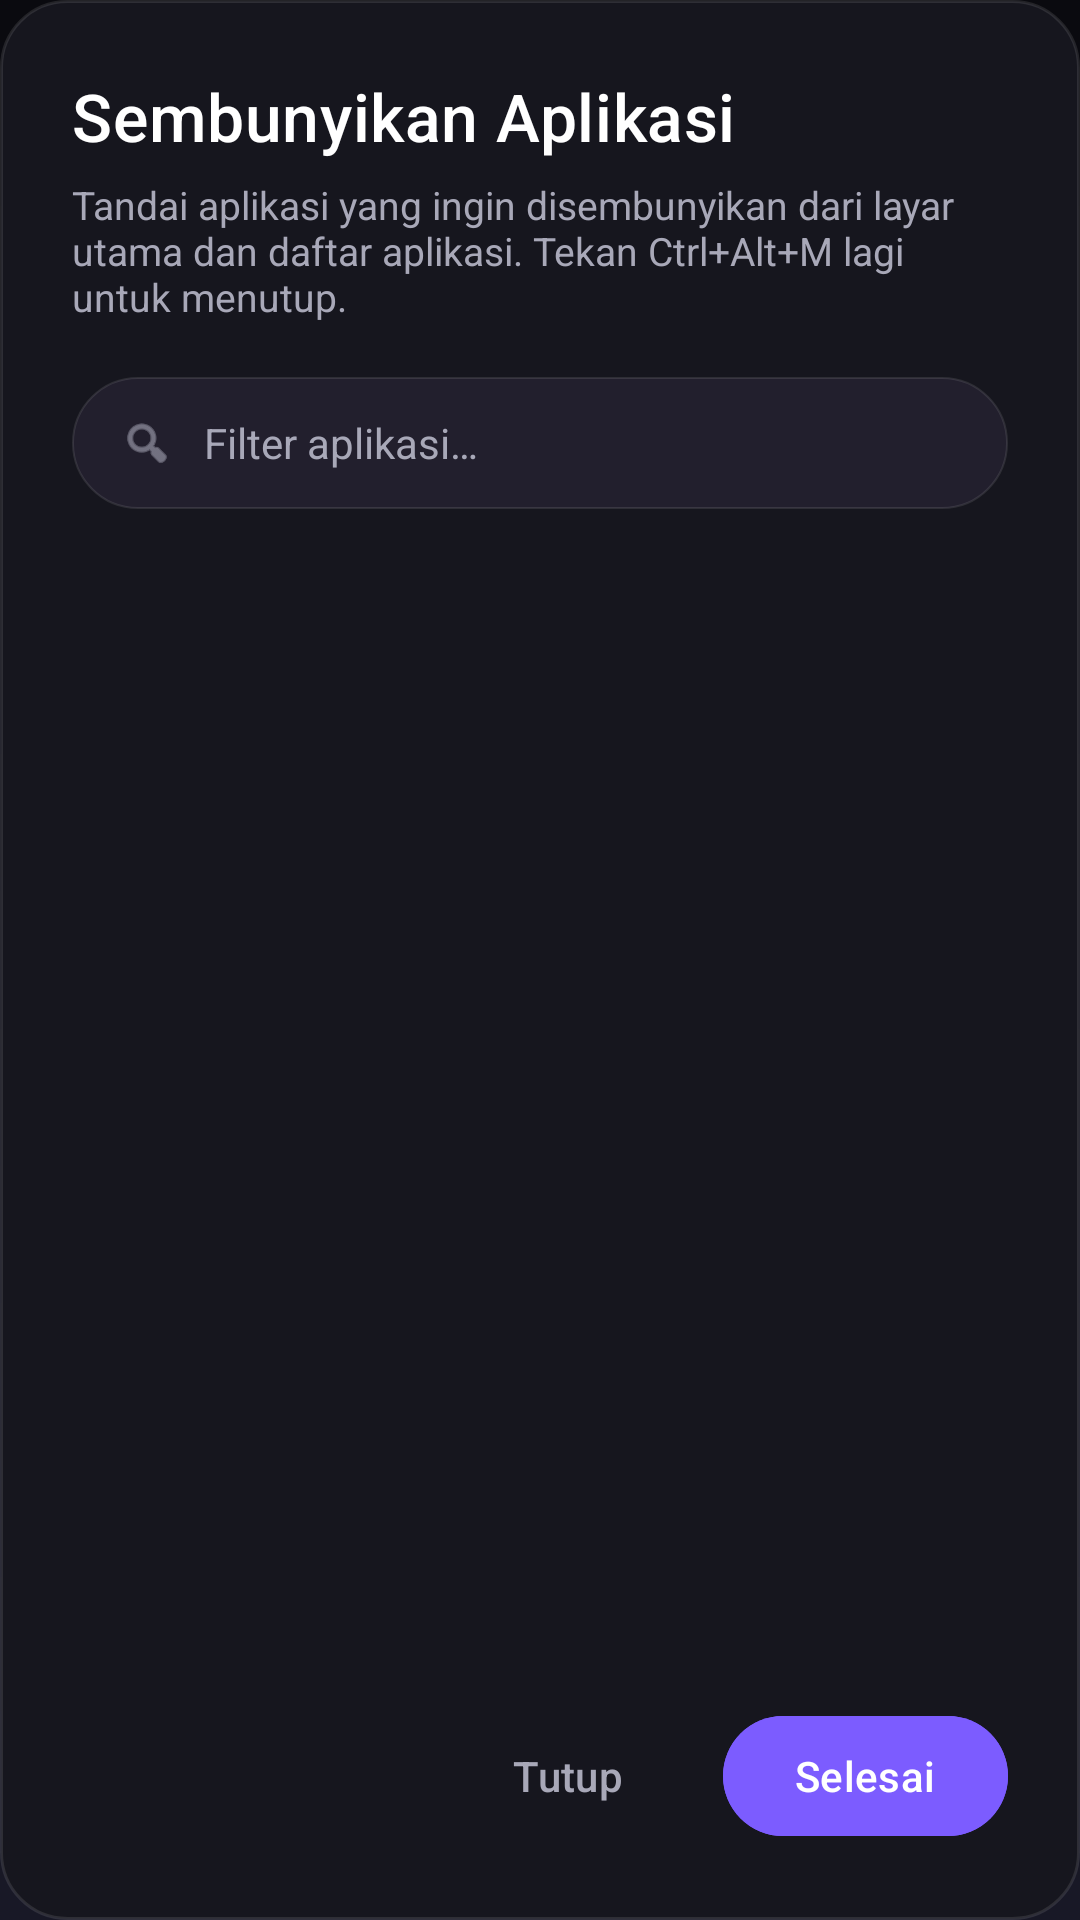

Icon bounding boxes for this 1080px×1920px phone screenshot, format (x1, y1, x2, y2):
search: (127, 423, 167, 463)
